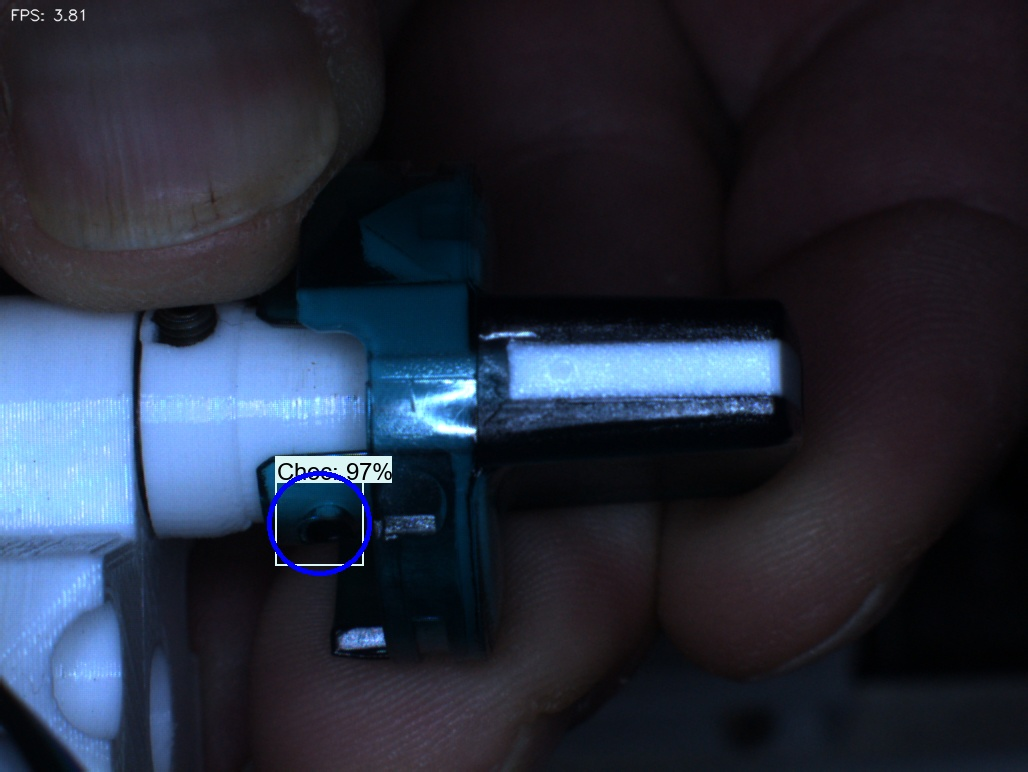DentOk: (338, 179, 405, 284)
